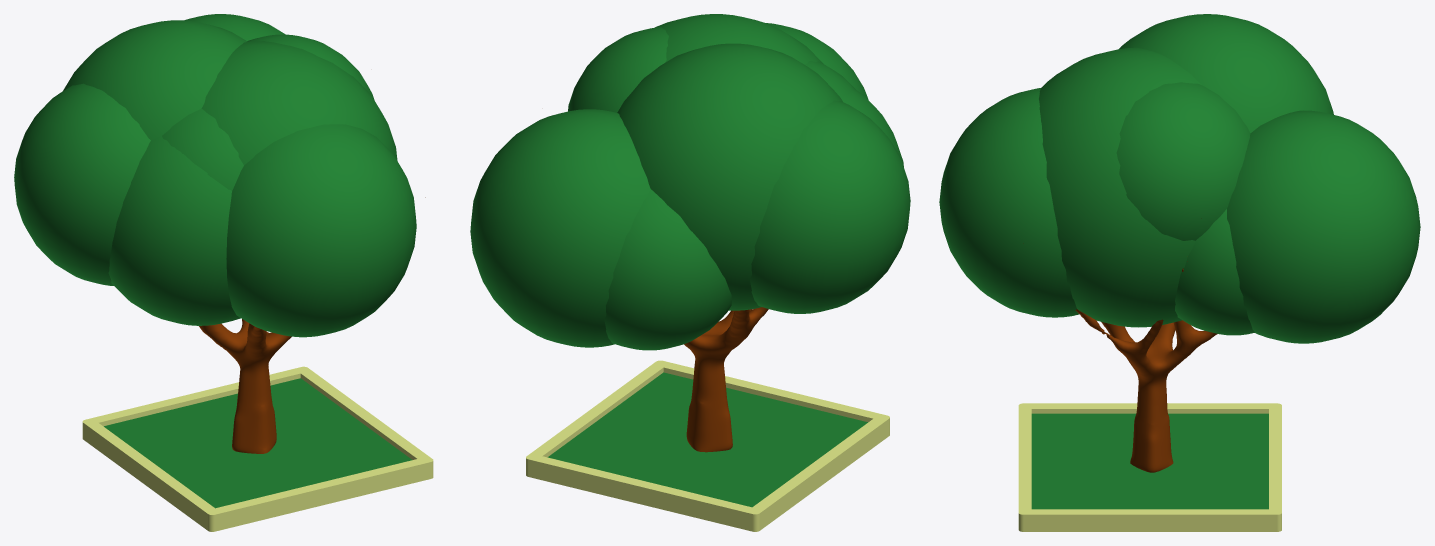
File: Tree.fbx
3 renders of one model, left to right at view 1: azimuth 30°, elevation 25°; view 2: azimuth 150°, elevation 25°; view 3: azimuth 270°, elevation 25°, orthographic. The views are drawn at different scales.
Visible parts, largest first — view 1: Sphere.001, Cube.001, Cube; view 2: Sphere.001, Cube.001, Cube; view 3: Sphere.001, Cube.001, Cube.
Boxes of the visible parts, bbox=[...] form: Sphere.001: bbox=[14, 14, 425, 453]; Cube.001: bbox=[104, 378, 412, 508]; Cube: bbox=[82, 366, 433, 531]; Sphere.001: bbox=[470, 14, 910, 452]; Cube.001: bbox=[547, 372, 867, 507]; Cube: bbox=[526, 360, 889, 531]; Sphere.001: bbox=[939, 14, 1420, 472]; Cube.001: bbox=[1031, 413, 1268, 509]; Cube: bbox=[1018, 403, 1281, 531].
Bounding box in the file's own units: 659 × 760 × 781.
